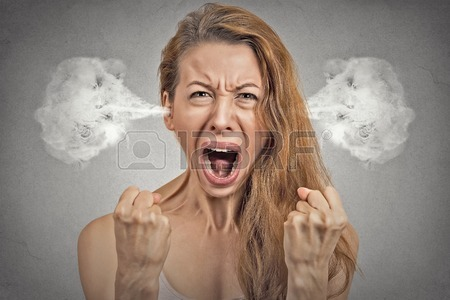angry: (169, 62, 274, 199)
